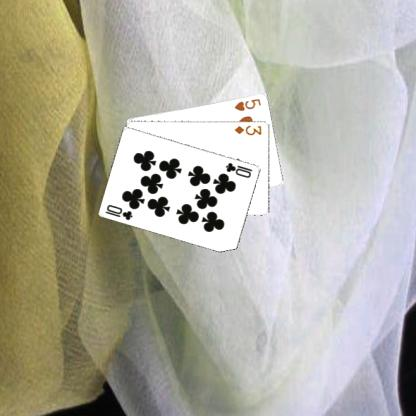10C: (223, 159, 254, 179), (102, 202, 134, 221)
3D: (232, 123, 262, 136)
5H: (232, 95, 262, 112)
